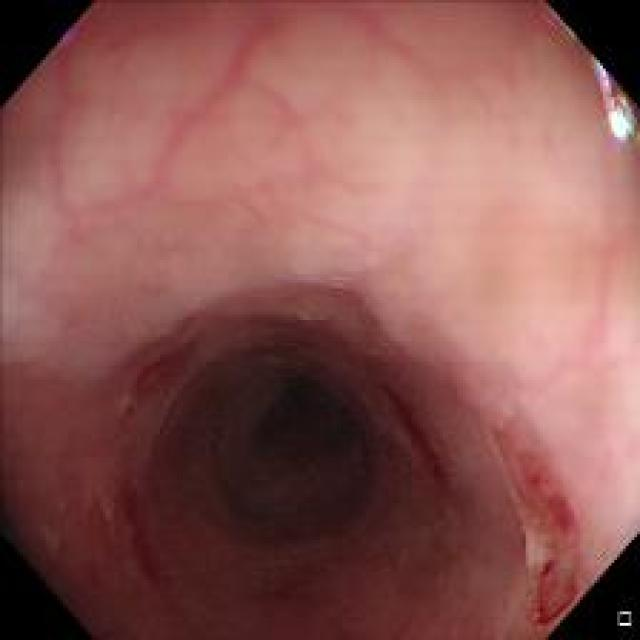blood: (528, 560, 580, 629)
color misalignment: (582, 52, 638, 152), (540, 6, 576, 44), (55, 12, 95, 46)
contrast: (179, 318, 490, 611)
